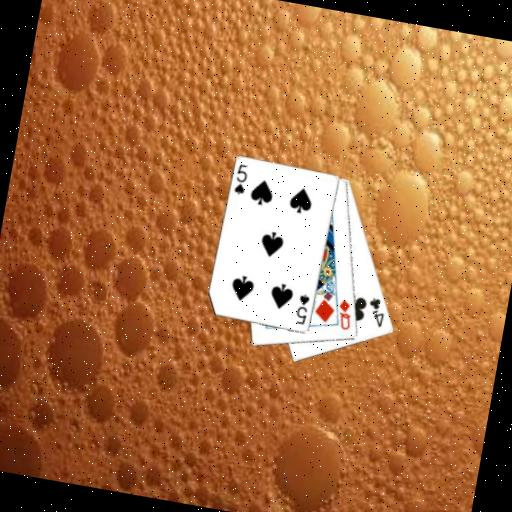4C: (363, 293, 389, 329)
5S: (291, 290, 312, 326), (230, 160, 250, 197)
QD: (332, 295, 357, 332)
